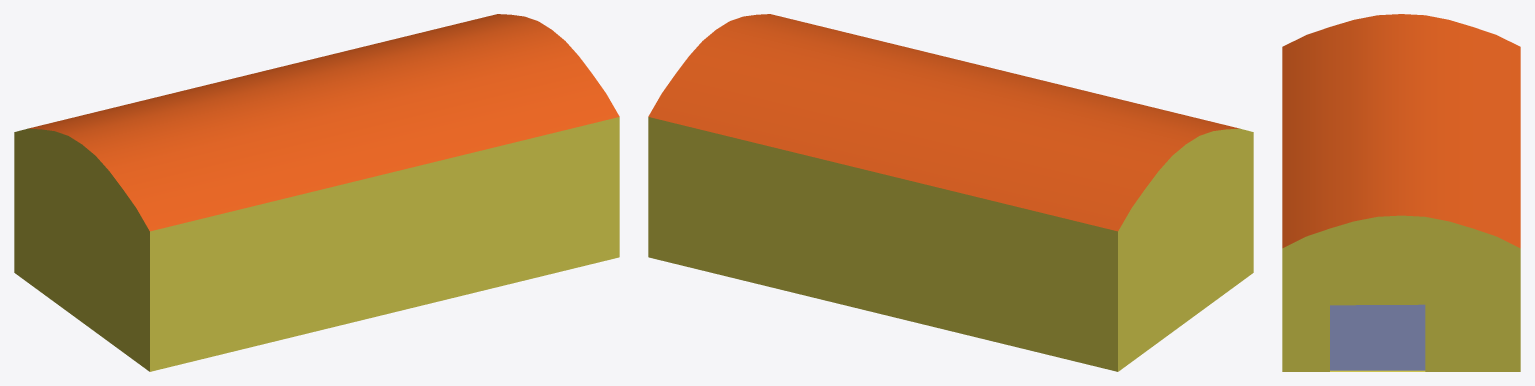
Rendered from Galpão.fbx.
3 renders of one model, left to right at view 1: azimuth 30°, elevation 25°; view 2: azimuth 150°, elevation 25°; view 3: azimuth 270°, elevation 25°, orthographic. The views are drawn at different scales.
Visible parts, largest first — view 1: Galpão; view 2: Galpão; view 3: Galpão.
Boxes of the visible parts, x1=… form: Galpão: x1=14, y1=14, x2=619, y2=371; Galpão: x1=648, y1=14, x2=1253, y2=371; Galpão: x1=1282, y1=14, x2=1520, y2=371.
Size of the model in its own units: 2800 by 1013 by 1400.
